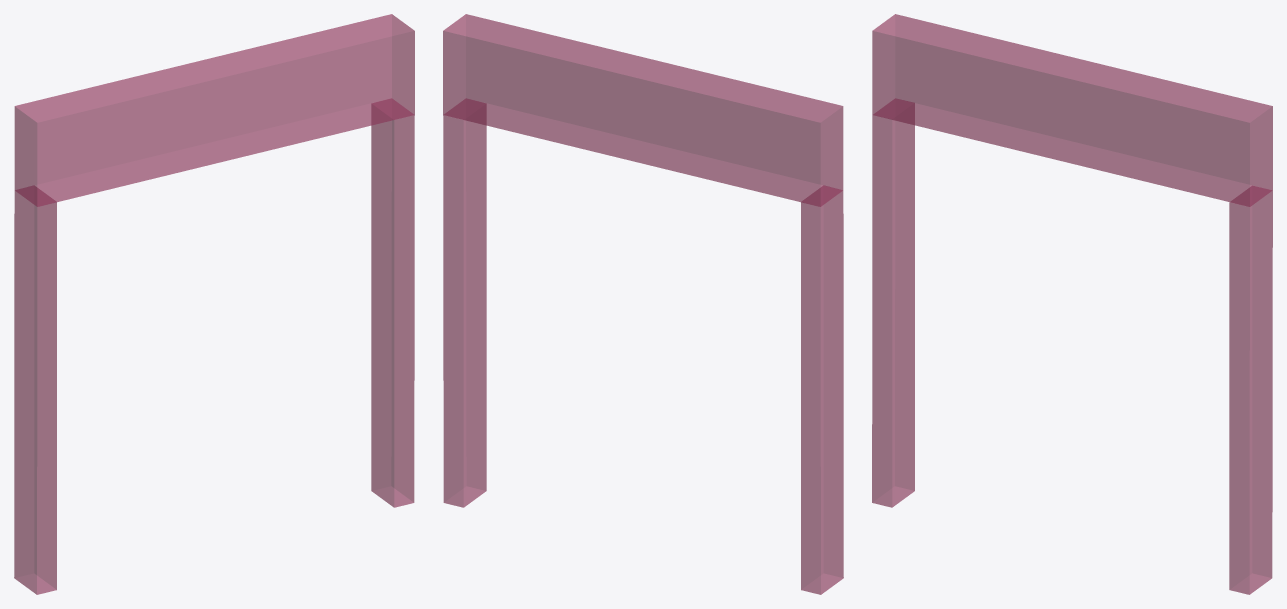
File: SM_Bld_Base_Wall_Door_Double_Large_01_Collision.fbx
The picture shows the model from 3 angles, left to right: view 1: azimuth 30°, elevation 25°; view 2: azimuth 150°, elevation 25°; view 3: azimuth 330°, elevation 25°; orthographic projection.
Parts seen in each view (by area): view 1: SM_Bld_Base_Wall_Door_Double_Large_01_Collision; view 2: SM_Bld_Base_Wall_Door_Double_Large_01_Collision; view 3: SM_Bld_Base_Wall_Door_Double_Large_01_Collision.
Part boxes in pixels (box(x1,y1,x2,y2)): SM_Bld_Base_Wall_Door_Double_Large_01_Collision: box(14, 14, 414, 594); SM_Bld_Base_Wall_Door_Double_Large_01_Collision: box(443, 14, 843, 594); SM_Bld_Base_Wall_Door_Double_Large_01_Collision: box(872, 14, 1272, 594).
Size of the model in its own units: 253 by 302 by 26.5.
